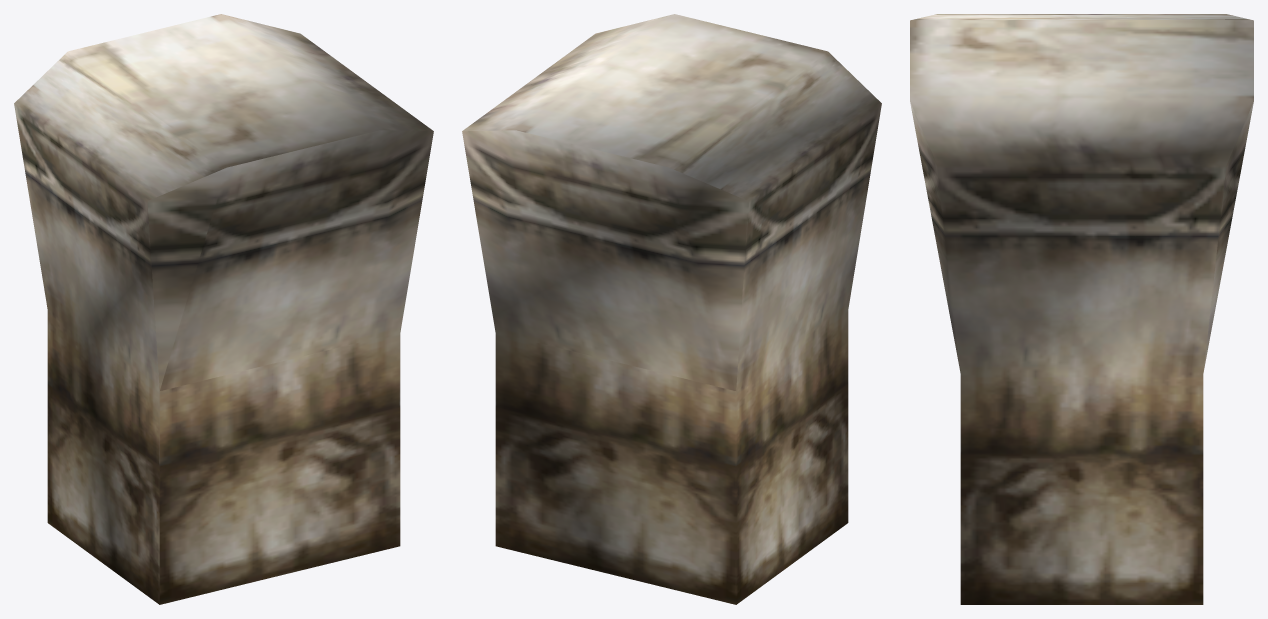
Rendered from lochmodanstonefence04.obj.
The picture shows the model from 3 angles, left to right: view 1: azimuth 30°, elevation 25°; view 2: azimuth 150°, elevation 25°; view 3: azimuth 270°, elevation 25°; orthographic projection. The views are drawn at different scales.
Visible parts, largest first — view 1: lochmodanstonefence04.m2; view 2: lochmodanstonefence04.m2; view 3: lochmodanstonefence04.m2.
Part boxes in pixels (x1=…): lochmodanstonefence04.m2: x1=14, y1=14, x2=433, y2=604; lochmodanstonefence04.m2: x1=462, y1=14, x2=881, y2=604; lochmodanstonefence04.m2: x1=910, y1=14, x2=1253, y2=604.
Bounding box in the file's own units: 0.8828 × 1.31 × 0.8477.
Materials: 1 (1 with a texture image).
